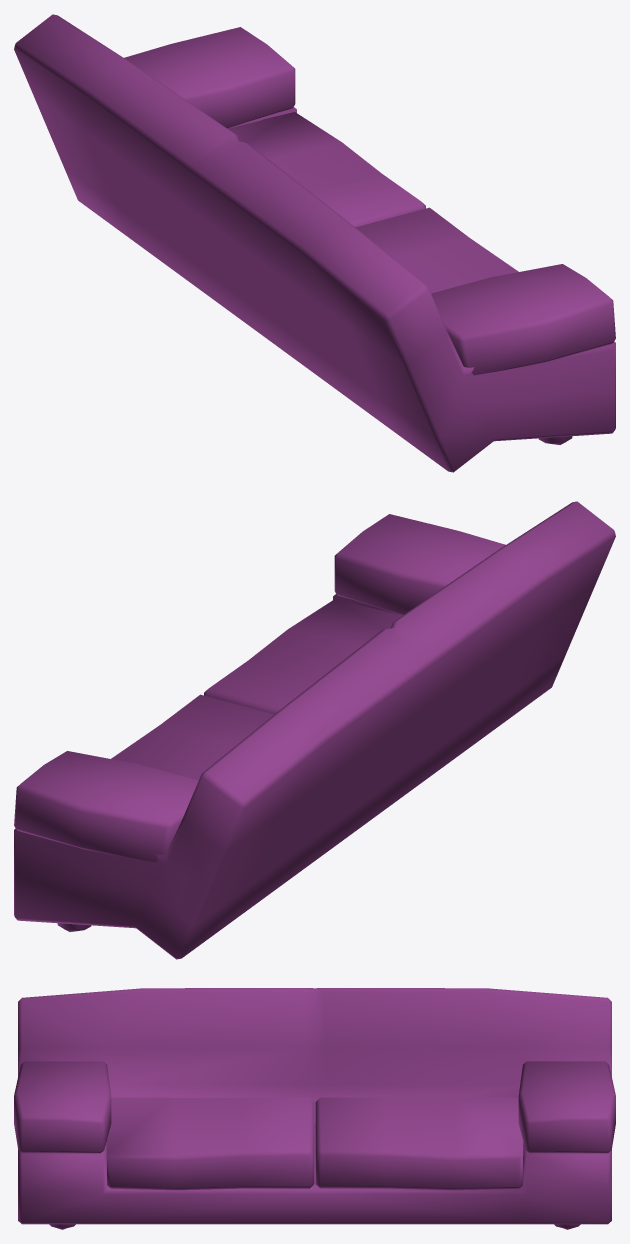
File: couchcaca (1).fbx
3 renders of one model, top to bottom at view 1: azimuth 30°, elevation 25°; view 2: azimuth 150°, elevation 25°; view 3: azimuth 270°, elevation 25°, orthographic. The views are drawn at different scales.
Visible parts, largest first — view 1: Cube.001; view 2: Cube.001; view 3: Cube.001.
Boxes of the visible parts, left/top/right/bottom form: Cube.001: left=14, top=14, right=615, bottom=472; Cube.001: left=14, top=501, right=615, bottom=959; Cube.001: left=14, top=988, right=615, bottom=1229.
Size of the model in its own units: 104 by 93.14 by 286.
